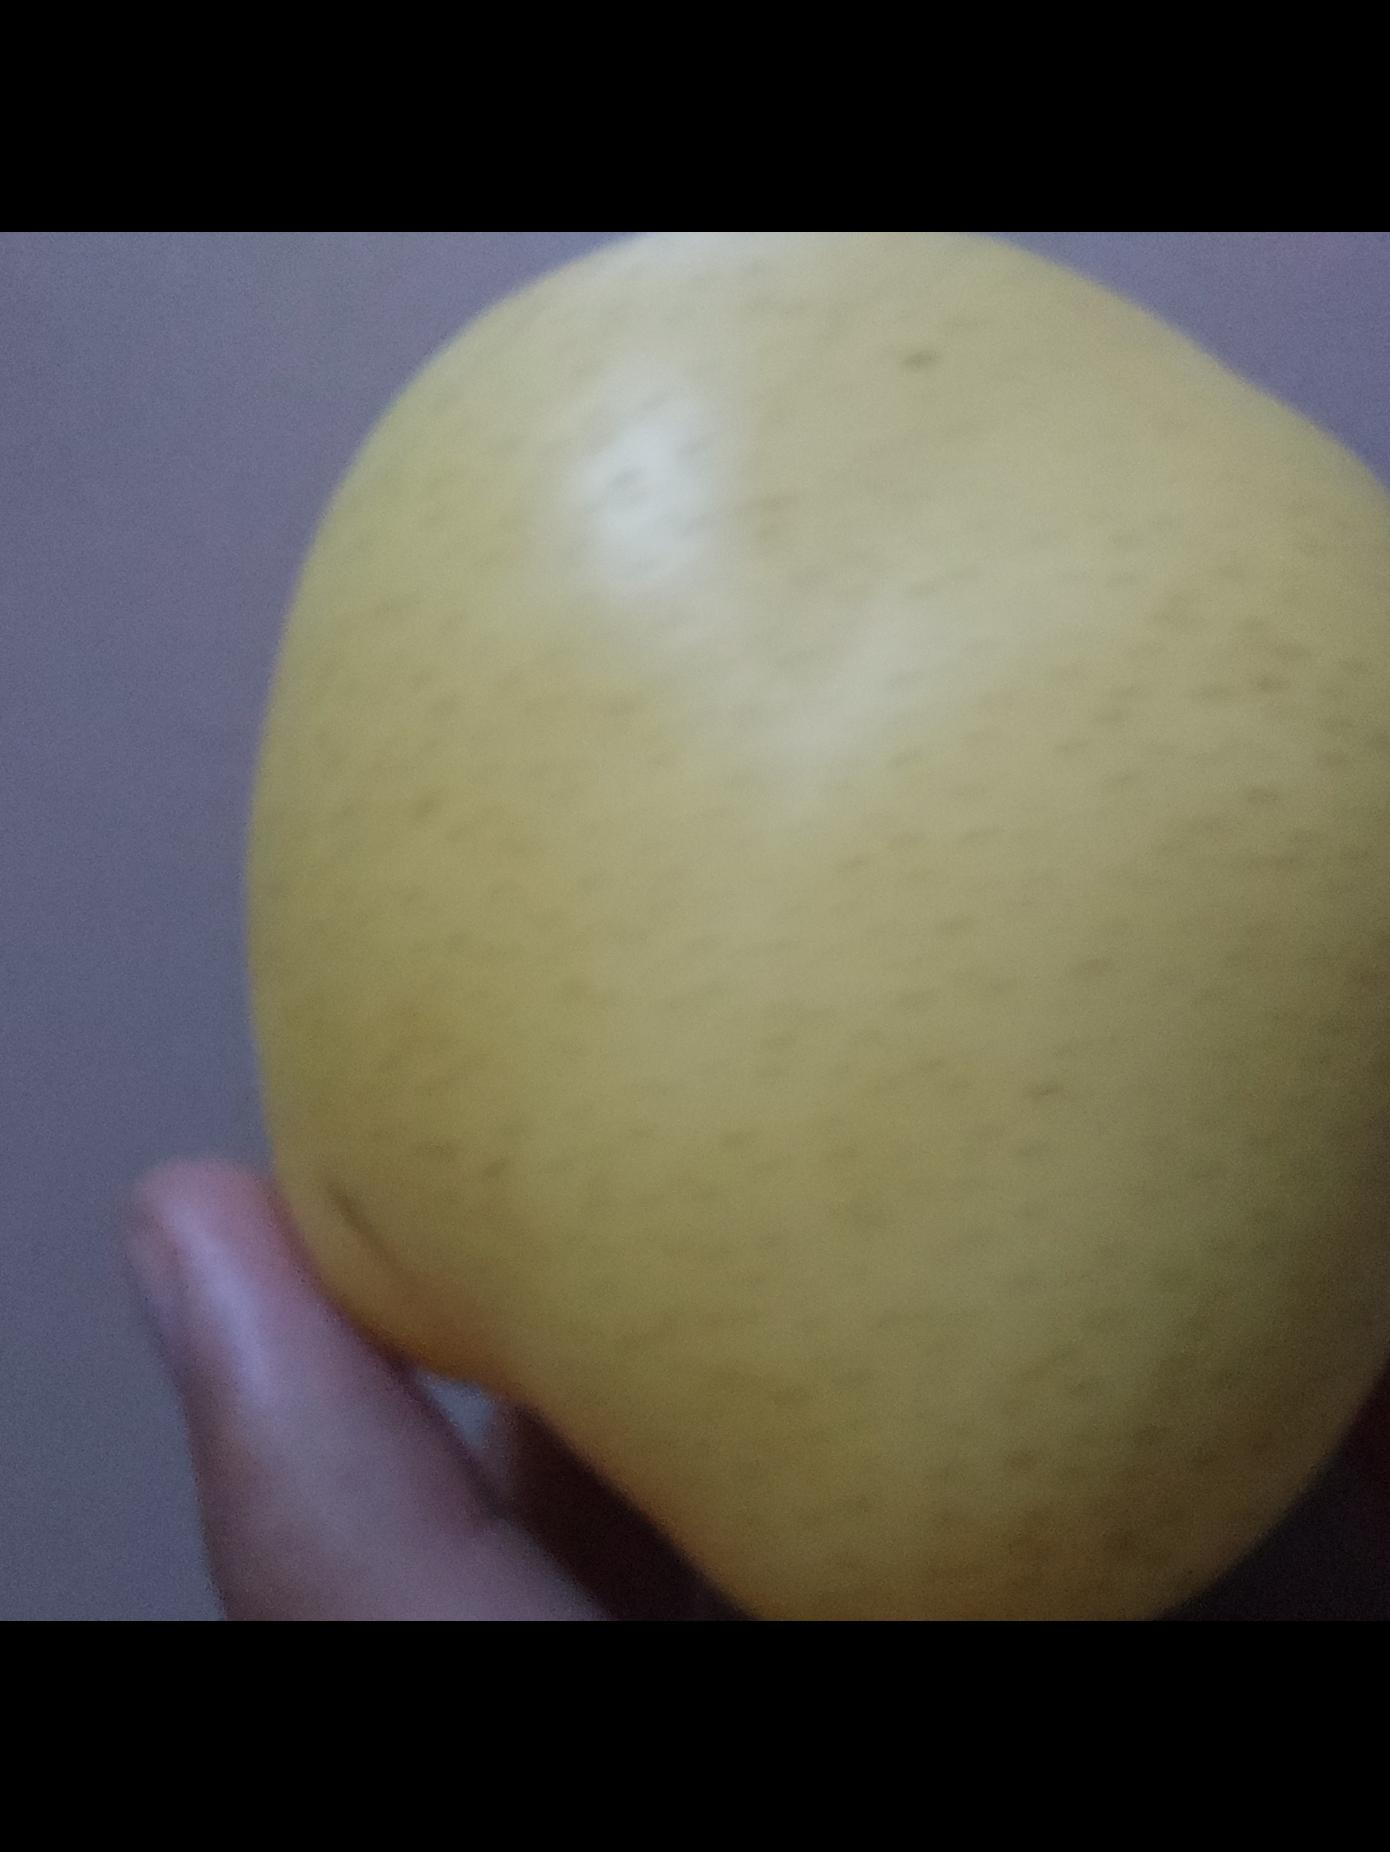Good Pear: (238, 231, 1390, 1621)
